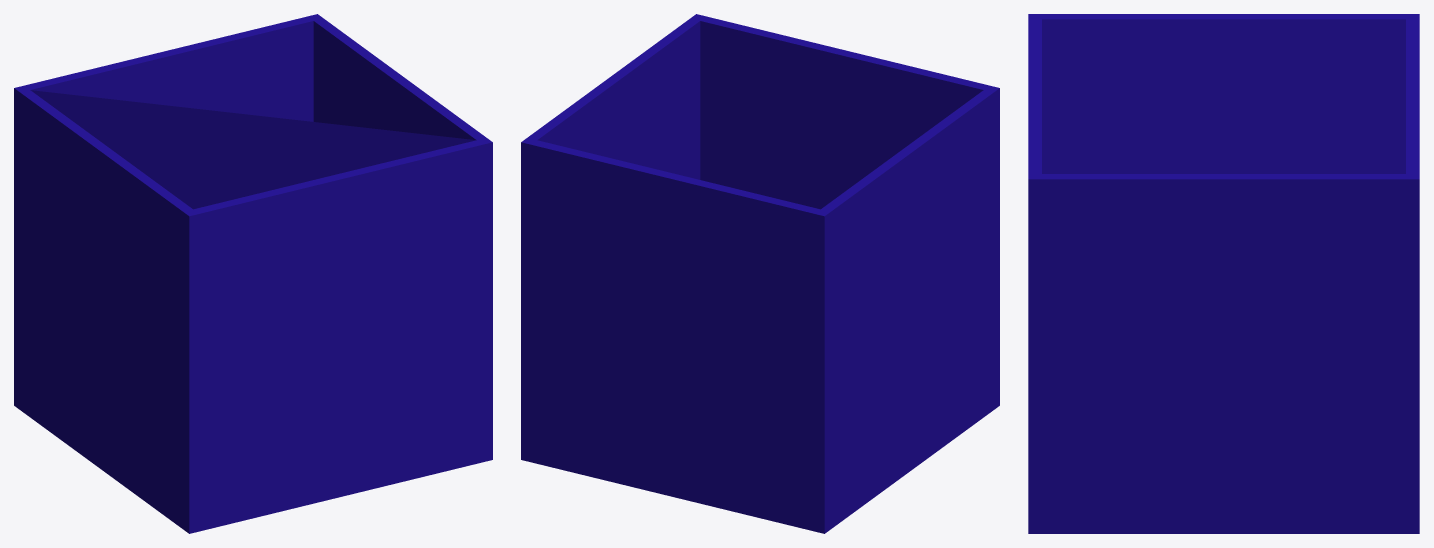
The model's file is Evil_Box01.fbx.
3 views of the same model, side by side, from view 1: azimuth 30°, elevation 25°; view 2: azimuth 150°, elevation 25°; view 3: azimuth 270°, elevation 25° (orthographic). The views are drawn at different scales.
Visible parts, largest first — view 1: Cube.001; view 2: Cube.001; view 3: Cube.001.
Part boxes in pixels (x1,y1,x2,y2): Cube.001: (14, 14, 492, 533); Cube.001: (521, 14, 999, 533); Cube.001: (1028, 14, 1419, 533).
Bounding box in the file's own units: 303 × 303 × 303.
